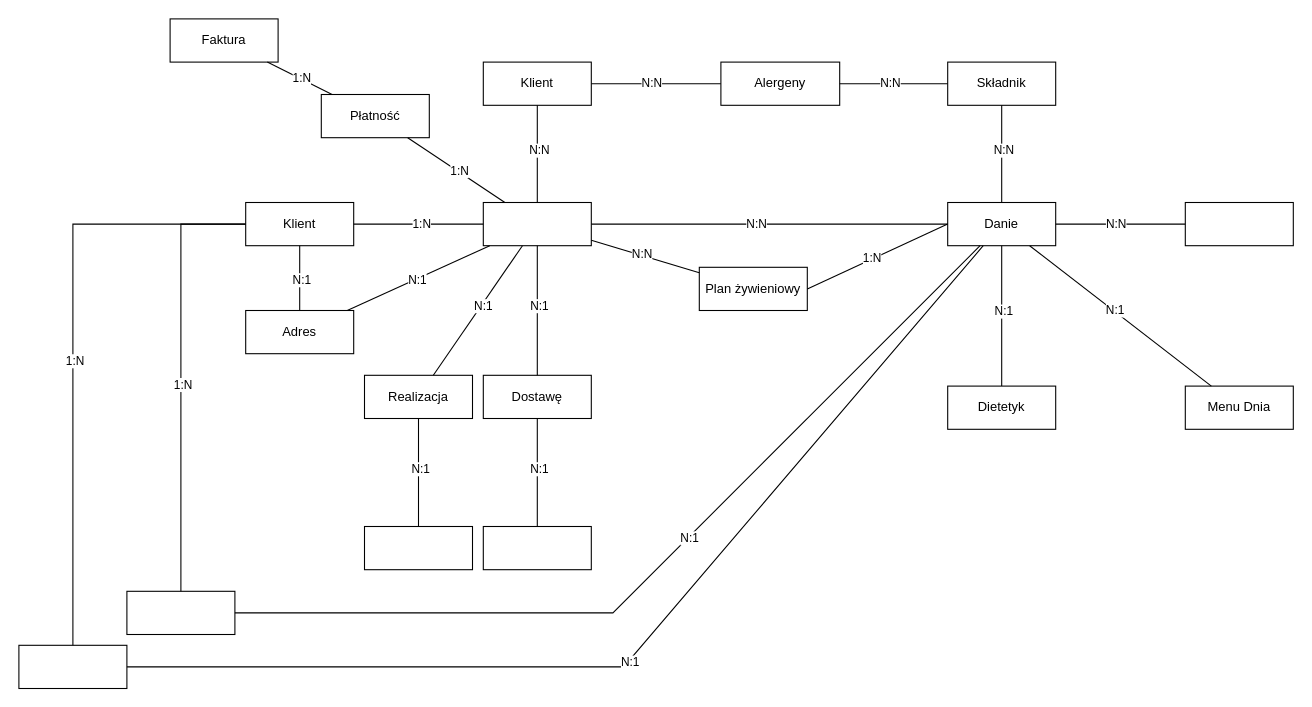
Some shapes in this 1312 by 707 pixel diagram are drawn without their labels. The shapes that lost their labels are listed below. From the top down, each one's centre as x and y in pixels, then its label:
At point (536, 223): "Zamówienie".
At point (1238, 223): "Kategoria dania".
At point (418, 547): "Kucharz".
At point (536, 547): "Dostawca".
At point (180, 612): "Ulubione".
At point (72, 666): "Opinia".
